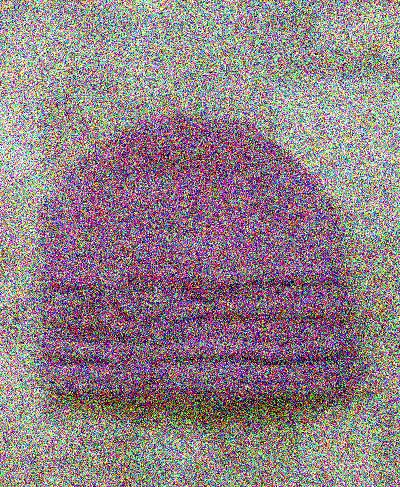Hat: (23, 109, 375, 408)
